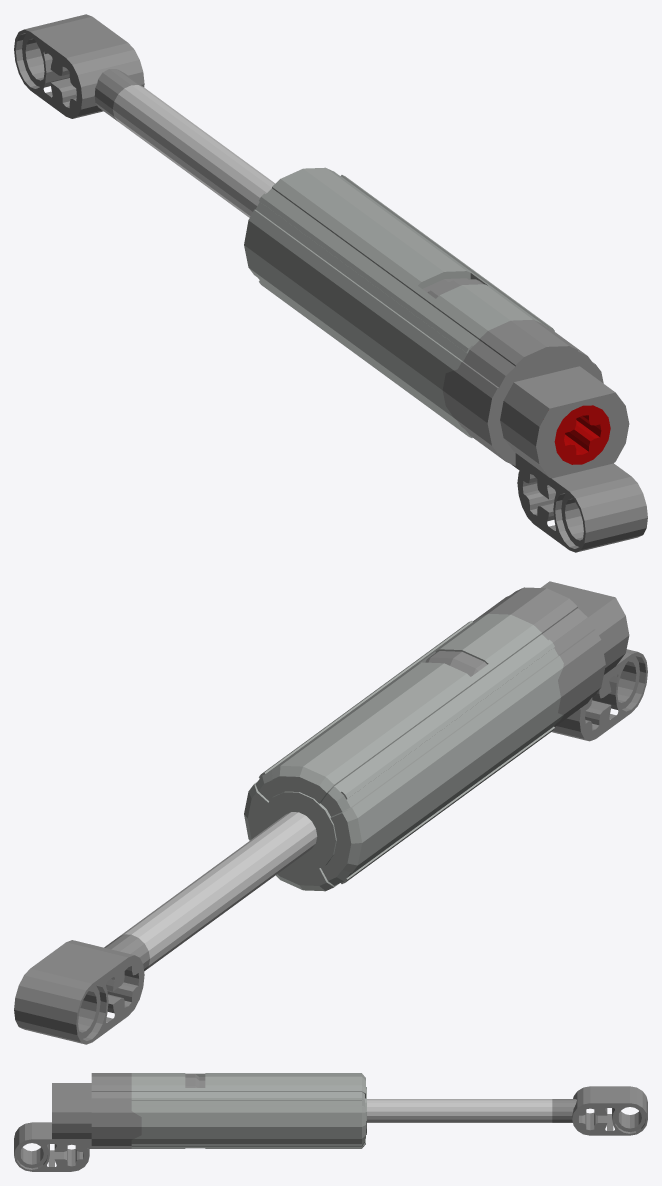
3 renders of one model, top to bottom at view 1: azimuth 30°, elevation 25°; view 2: azimuth 150°, elevation 25°; view 3: azimuth 270°, elevation 25°, orthographic. The views are drawn at different scales.
Parts seen in each view (by area): view 1: world; view 2: world; view 3: world.
Part boxes in pixels (left/top/right/bottom): world: left=14, top=14, right=647, bottom=552; world: left=14, top=581, right=647, bottom=1044; world: left=14, top=1073, right=647, bottom=1171.
Size of the model in its own units: 0.0152 by 0.0192 by 0.1272.
